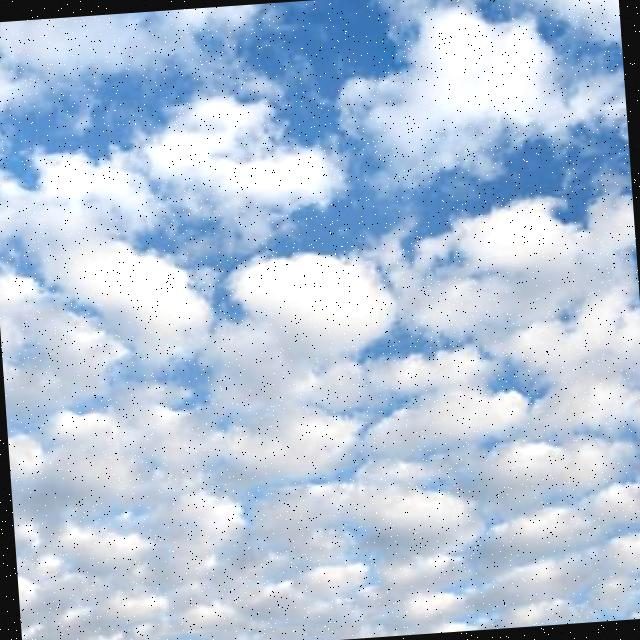Cc: (1, 5, 640, 620)
